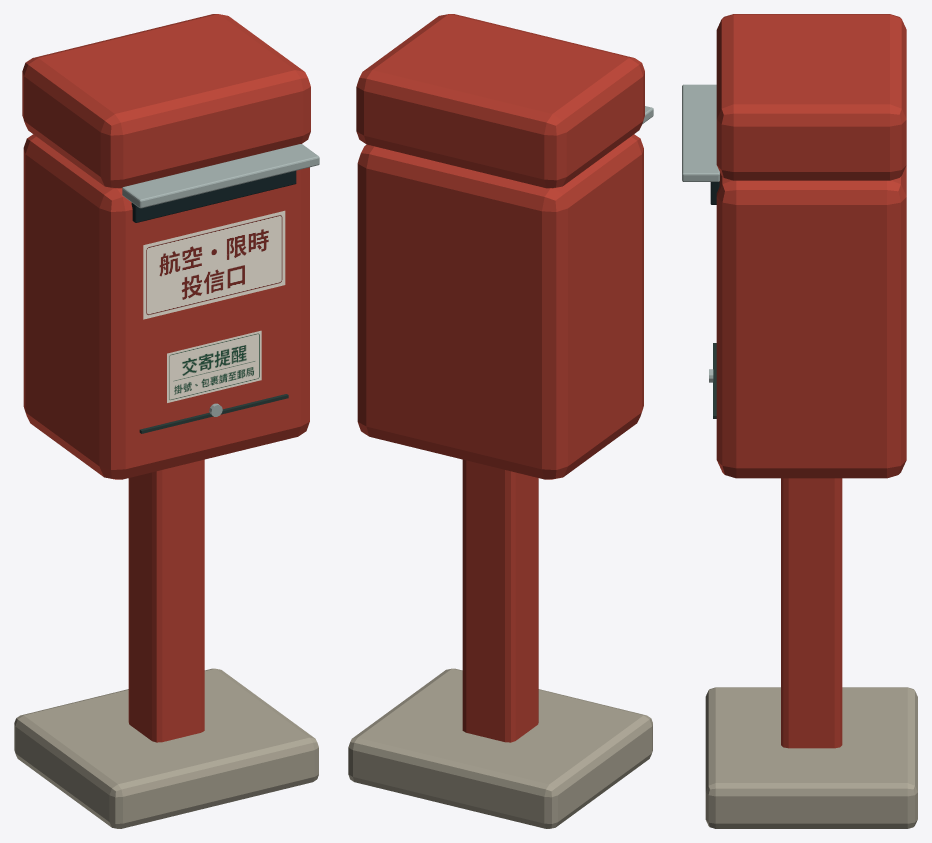
The model's file is 01_Postbox_Red.glb.
The picture shows the model from 3 angles, left to right: view 1: azimuth 30°, elevation 25°; view 2: azimuth 150°, elevation 25°; view 3: azimuth 270°, elevation 25°; orthographic projection. The views are drawn at different scales.
Visible parts, largest first — view 1: 01_Postbox_Red; view 2: 01_Postbox_Red; view 3: 01_Postbox_Red.
Boxes of the visible parts, x1,y1,x2,y2 form: 01_Postbox_Red: (14, 14, 319, 828); 01_Postbox_Red: (348, 14, 653, 828); 01_Postbox_Red: (682, 14, 917, 828).
Bounding box in the file's own units: 0.44 × 1.43 × 0.422.
6 materials, 1 textured.
